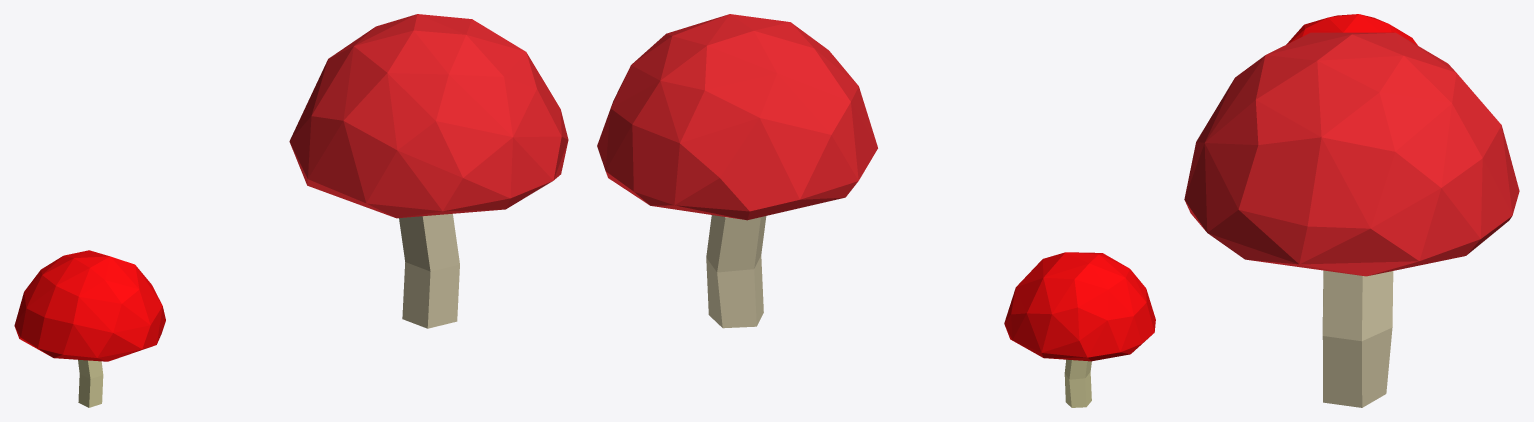
File: mantar.fbx
3 views of the same model, side by side, from view 1: azimuth 30°, elevation 25°; view 2: azimuth 150°, elevation 25°; view 3: azimuth 270°, elevation 25° (orthographic). The views are drawn at different scales.
Parts seen in each view (by area): view 1: ŞAPKA, ŞAPKA.001, Cylinder, Cylinder.001; view 2: ŞAPKA, ŞAPKA.001, Cylinder, Cylinder.001; view 3: ŞAPKA, Cylinder, ŞAPKA.001.
Part boxes in pixels (<box>): ŞAPKA: <box>289,14,568,218</box>; ŞAPKA.001: <box>14,250,165,361</box>; Cylinder: <box>399,213,459,328</box>; Cylinder.001: <box>78,360,103,407</box>; ŞAPKA: <box>597,14,877,220</box>; ŞAPKA.001: <box>1004,252,1155,361</box>; Cylinder: <box>706,215,766,328</box>; Cylinder.001: <box>1064,359,1091,407</box>; ŞAPKA: <box>1184,32,1519,276</box>; Cylinder: <box>1322,270,1393,407</box>; ŞAPKA.001: <box>1286,14,1417,45</box>.
Size of the model in its own units: 395 by 211 by 182.
